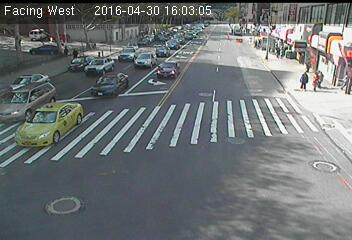neg: (303, 146, 335, 188), (125, 52, 156, 93), (146, 160, 176, 200), (262, 30, 292, 69), (97, 142, 124, 178), (222, 32, 248, 66), (171, 54, 193, 84), (89, 57, 110, 85), (61, 183, 80, 209), (39, 83, 58, 108), (216, 149, 233, 172)
pos: (293, 70, 309, 91), (307, 71, 322, 90), (317, 65, 330, 82)
